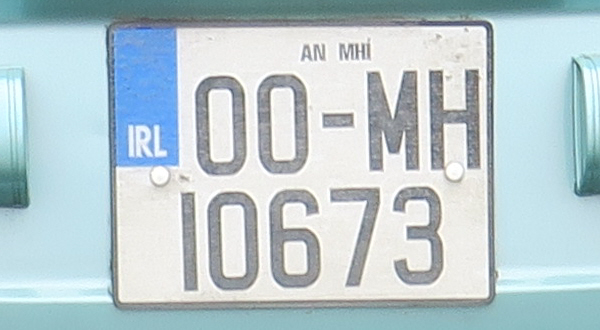license_plate: (106, 19, 495, 306)
